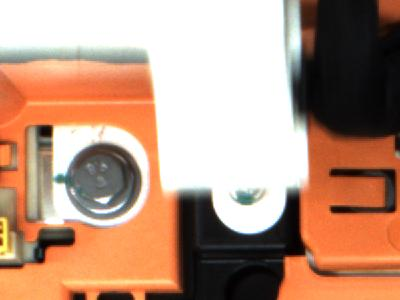nut_b: (53, 137, 155, 230)
